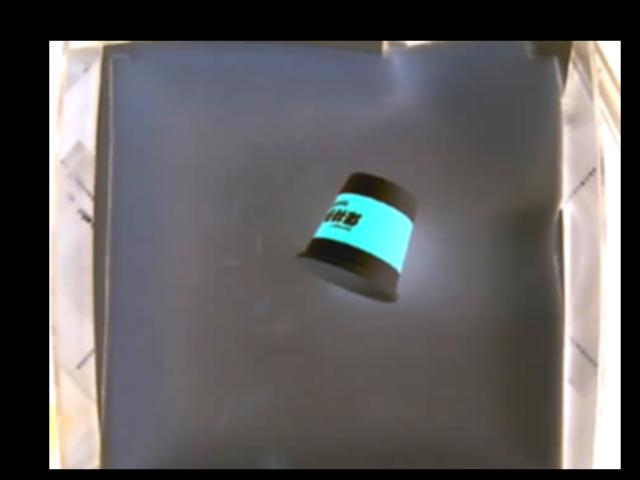Cup: (299, 171, 415, 304)
